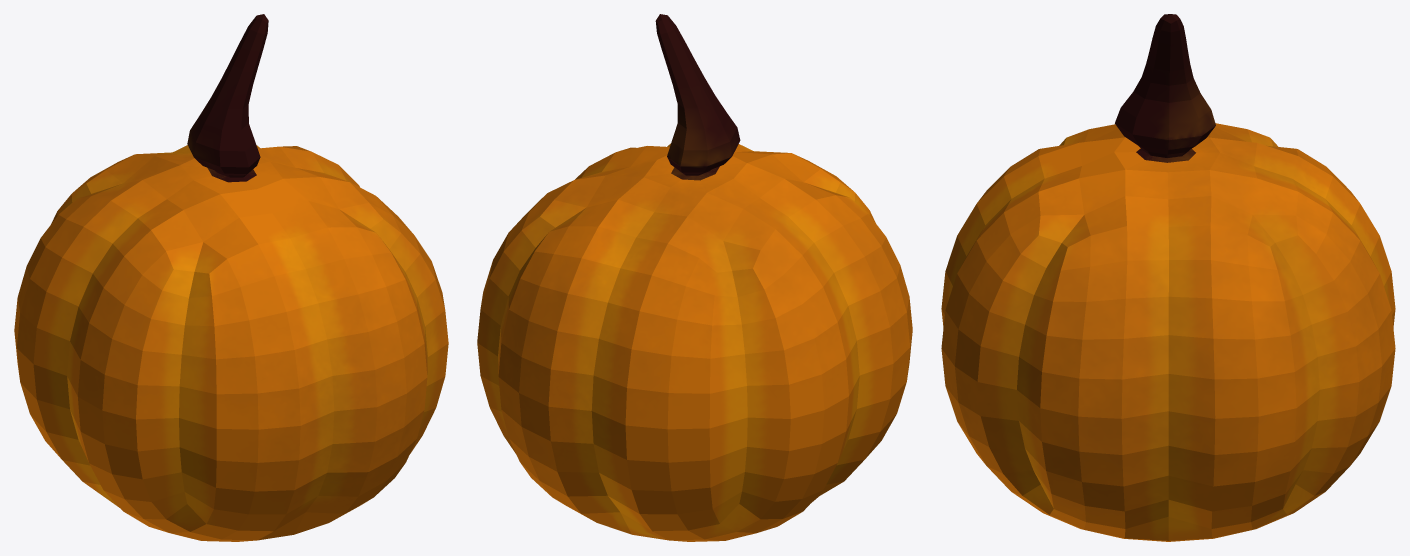
The model's file is Kalabasa.glb.
3 views of the same model, side by side, from view 1: azimuth 30°, elevation 25°; view 2: azimuth 150°, elevation 25°; view 3: azimuth 270°, elevation 25° (orthographic). The views are drawn at different scales.
Parts seen in each view (by area): view 1: Cube; view 2: Cube; view 3: Cube.
Boxes of the visible parts, bbox=[...] form: Cube: bbox=[14, 14, 448, 541]; Cube: bbox=[477, 14, 912, 541]; Cube: bbox=[941, 14, 1395, 541].
Size of the model in its own units: 2.44 by 3.28 by 2.6.
1 material, 1 textured.
